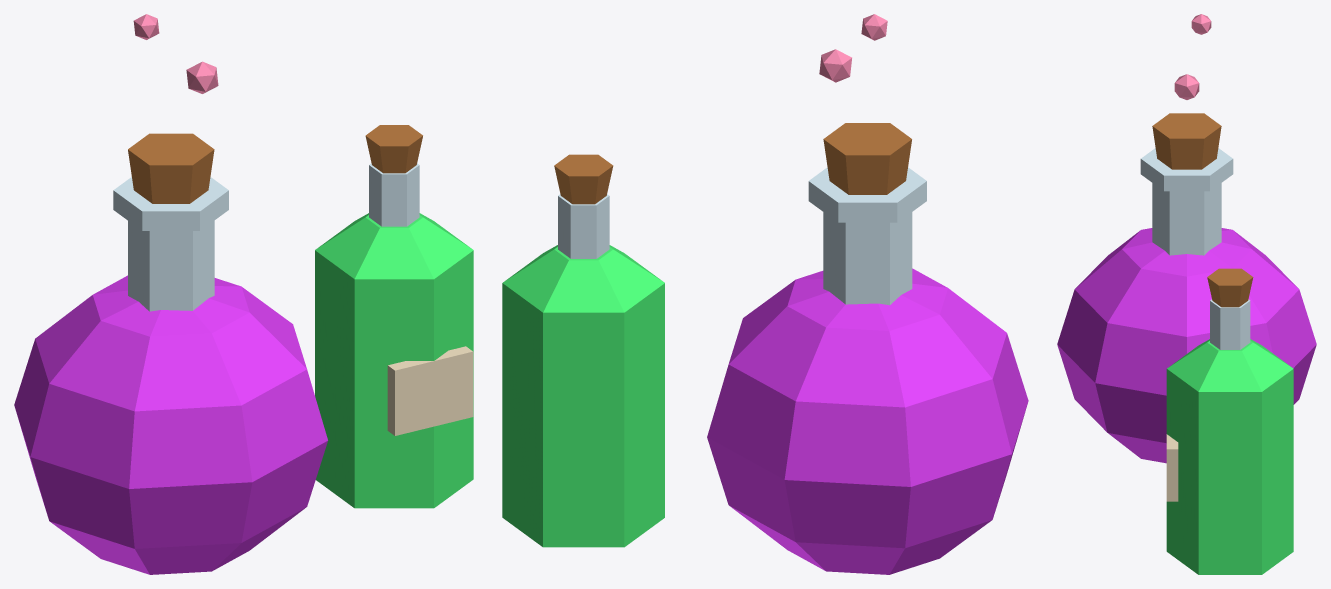
Rendered from Potions.fbx.
3 renders of one model, left to right at view 1: azimuth 30°, elevation 25°; view 2: azimuth 150°, elevation 25°; view 3: azimuth 270°, elevation 25°, orthographic. The views are drawn at different scales.
Parts seen in each view (by area): view 1: Potions; view 2: Potions; view 3: Potions.
Boxes of the visible parts, x1=… form: Potions: x1=14, y1=14, x2=473, y2=574; Potions: x1=502, y1=14, x2=1028, y2=574; Potions: x1=1057, y1=14, x2=1316, y2=574.
Size of the model in its own units: 4.32 by 4.98 by 2.7.
1 material, 1 textured.
